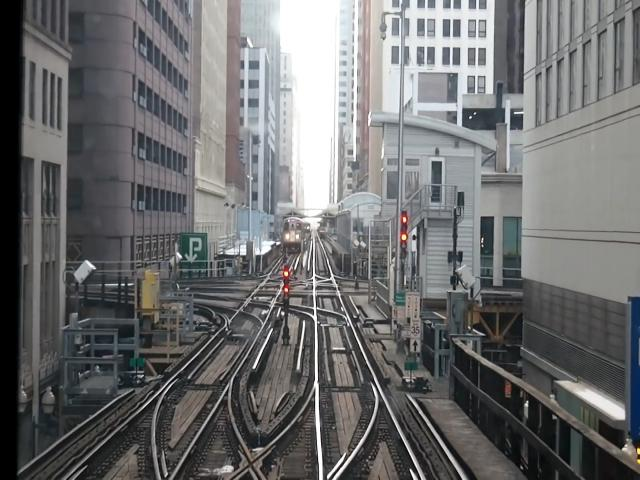signal light: (402, 211, 409, 262), (283, 268, 292, 305)
